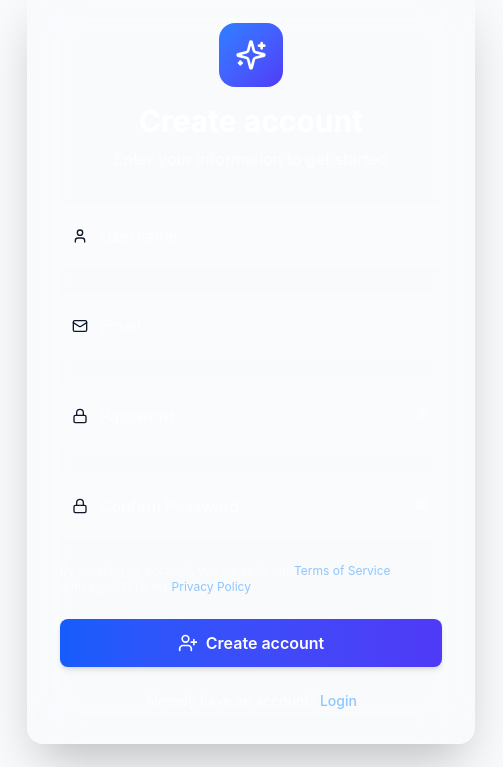
Test: RegisterPage › shows strong password when all requirements are met
The width and height of the screenshot is (503, 767).
Type "StrongPass123!" into the password field labelled "Password" at (251,416), box top-left (60, 383), bottom-right (442, 449)
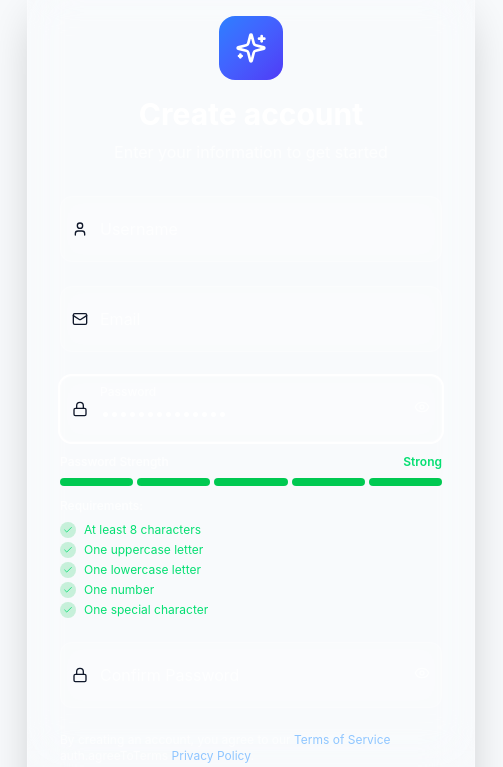
Expected: the text "Strong" is shown, top-left (403, 454), bottom-right (442, 470)
